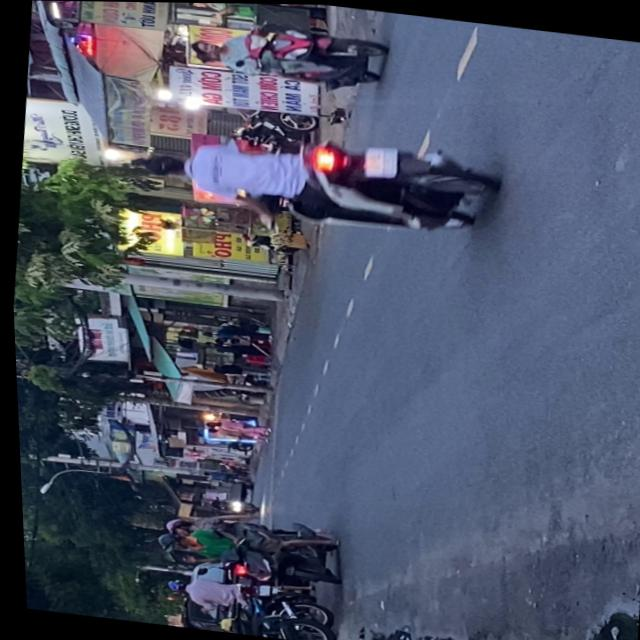helmet: (150, 530, 187, 550)
licenseplate: (129, 112, 502, 243), (183, 11, 390, 94), (147, 505, 341, 588)
motorcyclist: (136, 147, 189, 179), (188, 36, 222, 56)
nohelmet: (360, 142, 397, 178)
